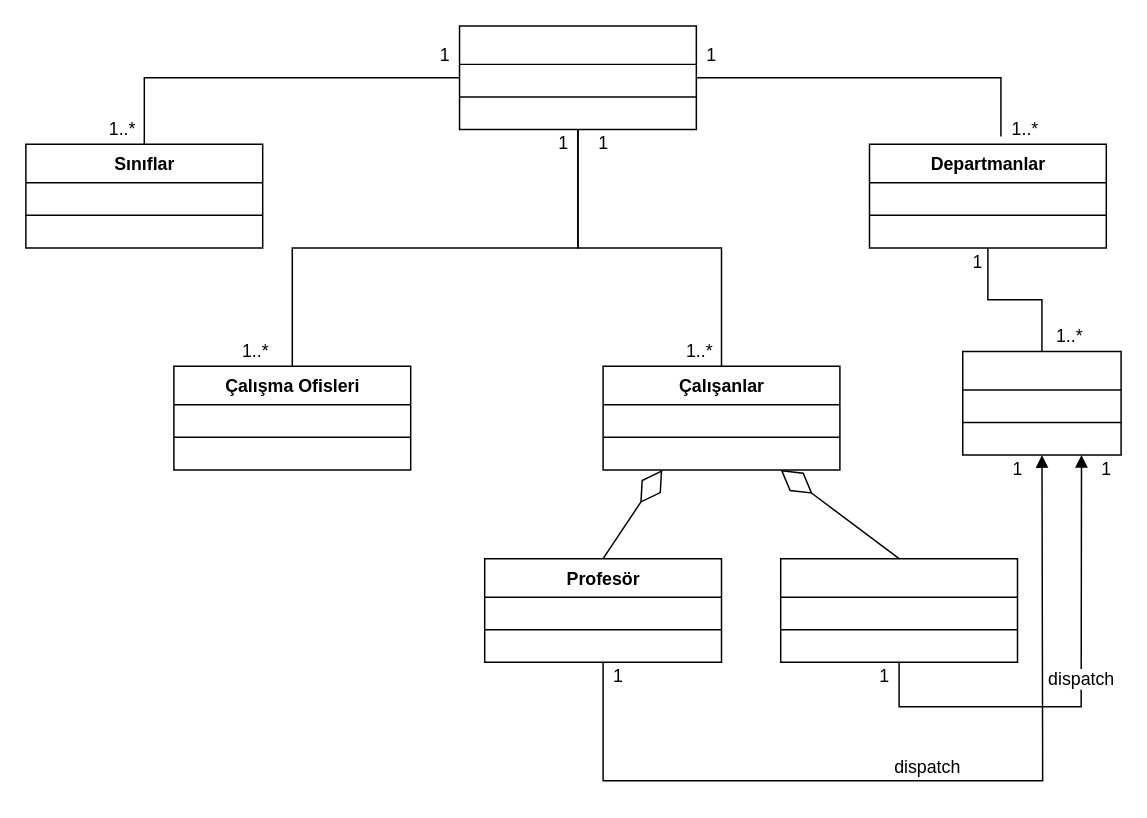
Some shapes in this 1147 by 818 pixel diagram are drawn without their labels. The centre of each missing label's shape, as x and y in pixels:
Memur: (x=898, y=609)
Ofisler: (x=1041, y=402)
Üniversite: (x=577, y=77)
